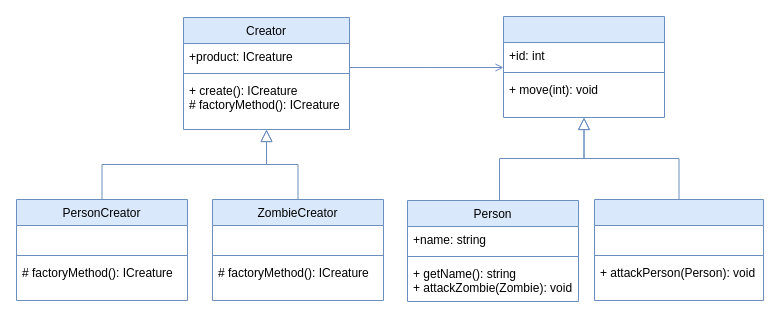
Image size: 780x318. Some labels were removed from this diagram. Here are the shapes that lost their labels. From the top down, the box of each, then its label:
(502, 16, 664, 118): ICreature
(594, 198, 764, 300): Zombie
